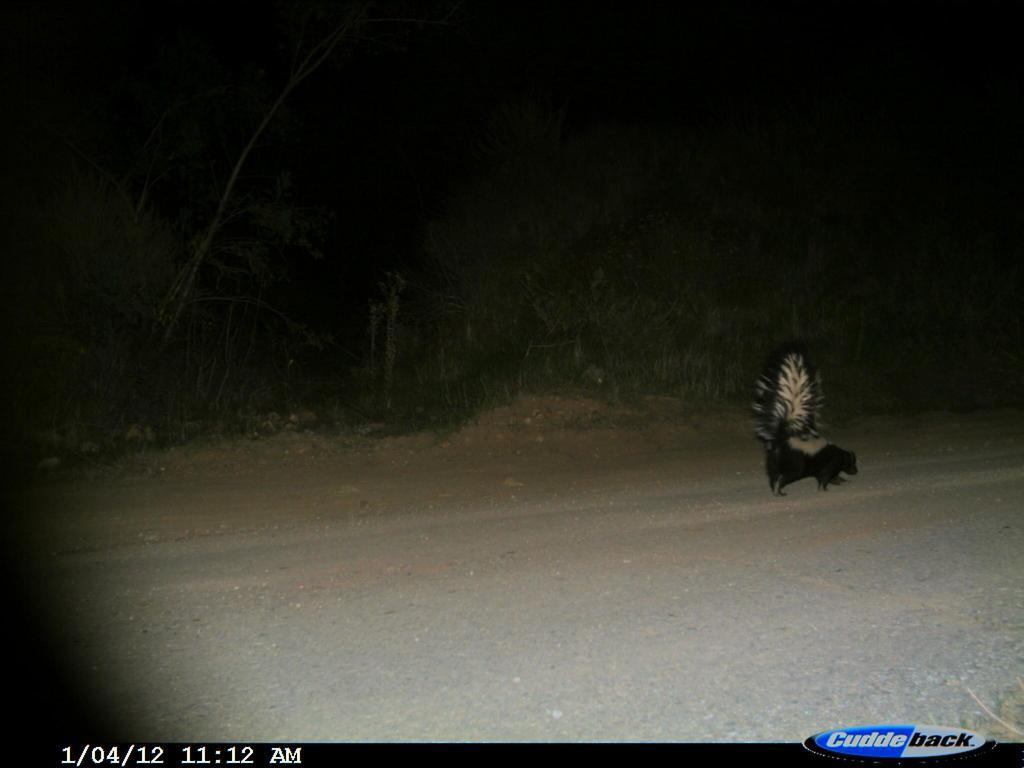skunk: (748, 337, 868, 506)
